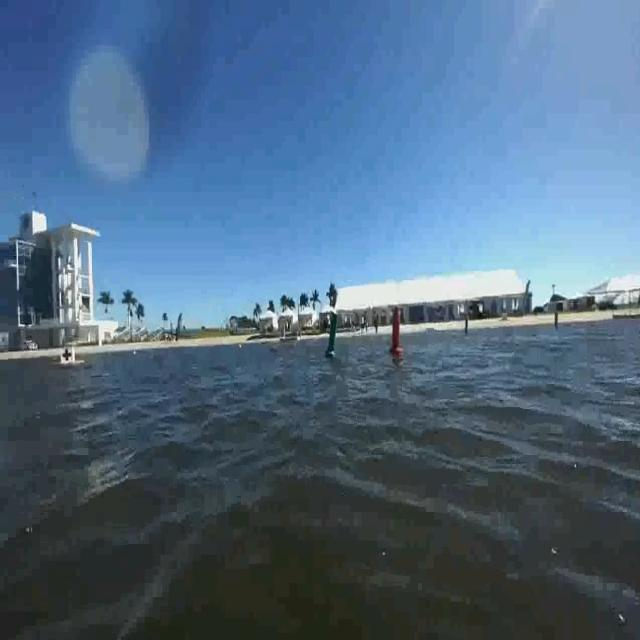green-column-buoy: (328, 313, 342, 359)
red-column-buoy: (387, 309, 402, 357)
